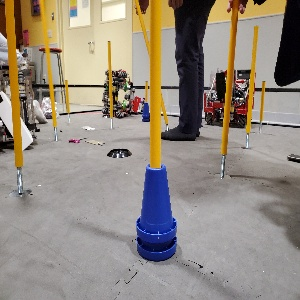Blue_2: (135, 161, 177, 262), (140, 101, 150, 121)
